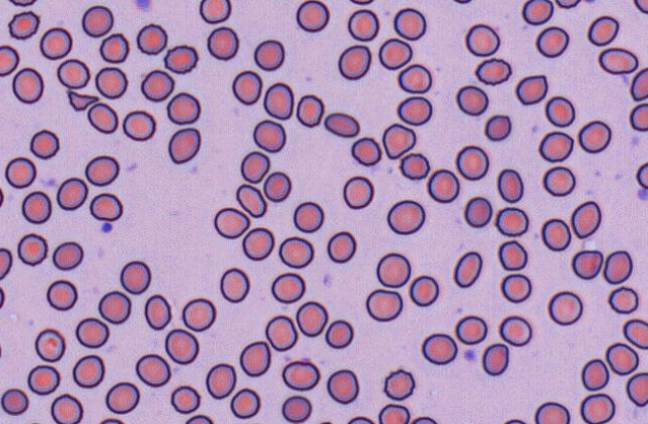PLT: (99, 221, 114, 233), (465, 349, 479, 361)
RBC: (383, 122, 419, 161), (387, 199, 425, 234), (164, 328, 199, 364), (547, 290, 582, 325), (365, 288, 402, 321), (135, 353, 170, 387), (376, 252, 410, 287), (181, 297, 216, 331), (265, 314, 297, 351), (281, 359, 319, 390), (570, 200, 601, 238), (338, 44, 371, 79), (326, 369, 359, 404), (455, 145, 488, 180), (295, 300, 327, 336), (168, 127, 200, 163), (105, 381, 139, 414), (605, 342, 639, 375), (465, 23, 499, 56), (98, 290, 131, 324), (427, 168, 459, 203), (278, 236, 313, 268), (205, 363, 236, 399), (12, 67, 43, 103), (239, 340, 270, 376), (421, 333, 457, 364), (213, 207, 249, 238), (263, 82, 293, 119), (393, 7, 426, 40), (578, 120, 611, 153), (72, 354, 104, 388), (140, 69, 174, 101), (166, 92, 200, 124), (538, 131, 573, 162), (579, 393, 615, 423), (598, 47, 638, 74), (39, 27, 72, 59), (296, 0, 329, 32), (95, 66, 127, 99), (56, 177, 88, 210), (242, 227, 274, 260), (253, 119, 285, 152), (75, 317, 109, 348), (34, 328, 65, 362), (56, 58, 90, 89), (378, 38, 412, 69), (271, 272, 305, 303), (498, 315, 532, 346), (207, 26, 238, 60), (535, 26, 569, 57), (120, 260, 151, 294), (342, 175, 373, 209), (85, 155, 119, 186), (219, 267, 249, 302), (453, 251, 482, 287), (347, 9, 379, 41), (81, 5, 113, 37), (27, 364, 60, 395), (122, 110, 155, 141), (236, 183, 266, 217), (397, 63, 431, 93), (232, 70, 262, 104), (163, 44, 198, 73), (397, 96, 432, 125), (383, 368, 414, 400), (5, 156, 36, 188), (587, 15, 619, 46), (50, 393, 83, 423), (21, 190, 51, 223), (515, 74, 548, 104), (495, 206, 528, 236), (542, 166, 575, 196), (541, 218, 571, 251), (603, 250, 632, 284), (475, 58, 511, 85), (144, 294, 171, 330), (46, 279, 77, 310), (87, 102, 118, 133), (136, 23, 167, 54), (253, 39, 284, 70), (17, 233, 47, 265), (571, 249, 603, 279), (456, 85, 488, 115), (240, 150, 269, 183), (89, 192, 122, 221), (230, 387, 260, 418), (500, 273, 531, 303), (545, 96, 575, 127), (293, 201, 323, 232), (455, 315, 487, 344), (296, 94, 324, 127), (29, 129, 59, 159), (351, 136, 381, 166), (8, 10, 39, 39), (99, 32, 128, 63), (409, 275, 438, 306), (52, 241, 83, 270), (463, 196, 492, 227), (327, 231, 356, 262), (581, 358, 609, 390), (481, 343, 509, 375), (497, 168, 523, 202), (324, 112, 359, 137), (170, 385, 200, 414), (498, 240, 527, 270), (608, 286, 638, 314), (263, 171, 291, 201), (398, 152, 429, 179), (325, 319, 353, 348), (281, 395, 311, 422), (521, 0, 553, 25), (534, 401, 570, 423), (0, 388, 28, 415), (623, 318, 647, 349), (199, 0, 231, 23), (484, 114, 511, 141), (626, 372, 647, 406), (378, 403, 410, 423), (0, 44, 19, 76), (630, 67, 647, 101), (629, 102, 647, 131), (0, 247, 12, 279), (636, 161, 647, 189), (185, 414, 213, 423), (347, 415, 375, 423), (555, 0, 580, 8), (409, 416, 437, 423), (633, 0, 647, 13), (8, 0, 37, 6), (99, 417, 124, 423), (349, 0, 374, 5), (502, 418, 526, 423), (0, 285, 5, 308), (0, 186, 4, 207), (452, 0, 472, 4)
Schistocyte: (66, 90, 99, 112)
